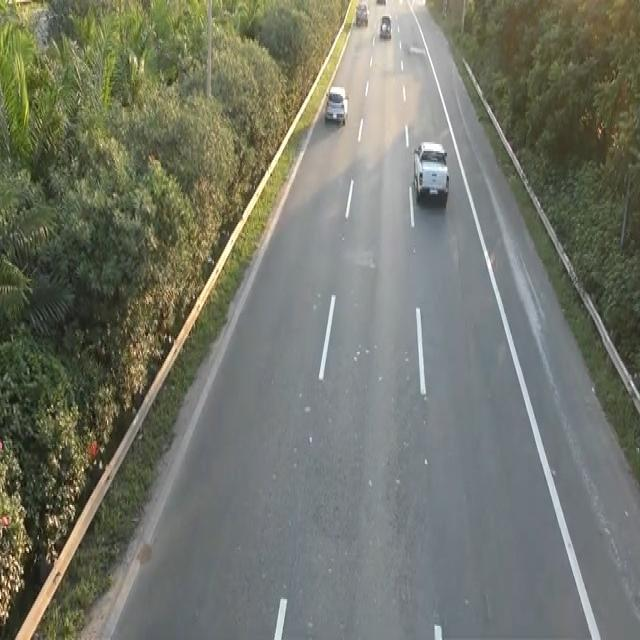bus: (324, 82, 348, 124)
car: (410, 137, 453, 211)
